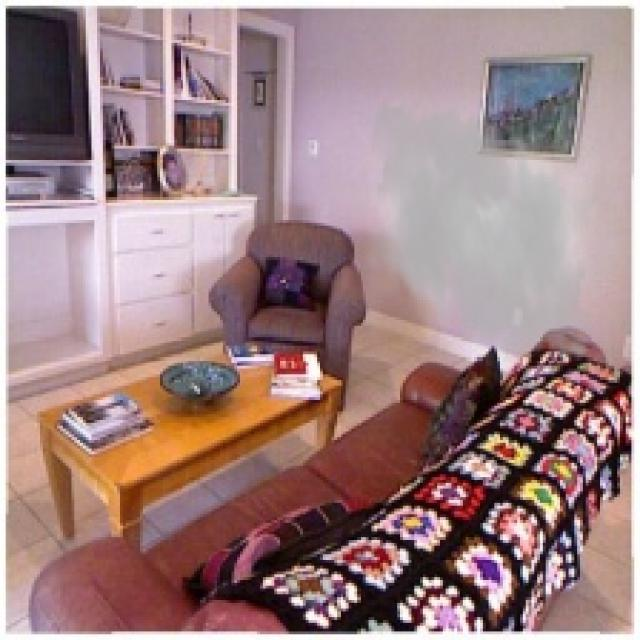Smoke: (346, 91, 612, 372)
